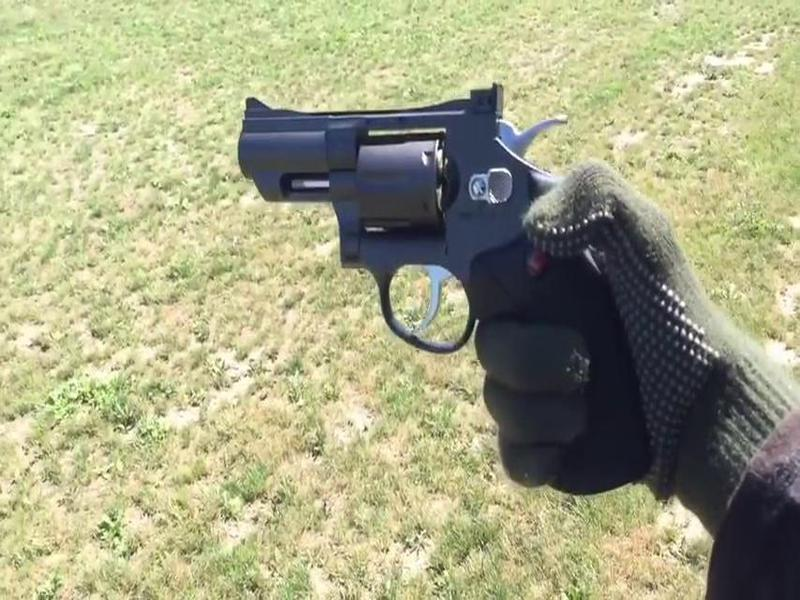Revolver: (238, 78, 640, 458)
